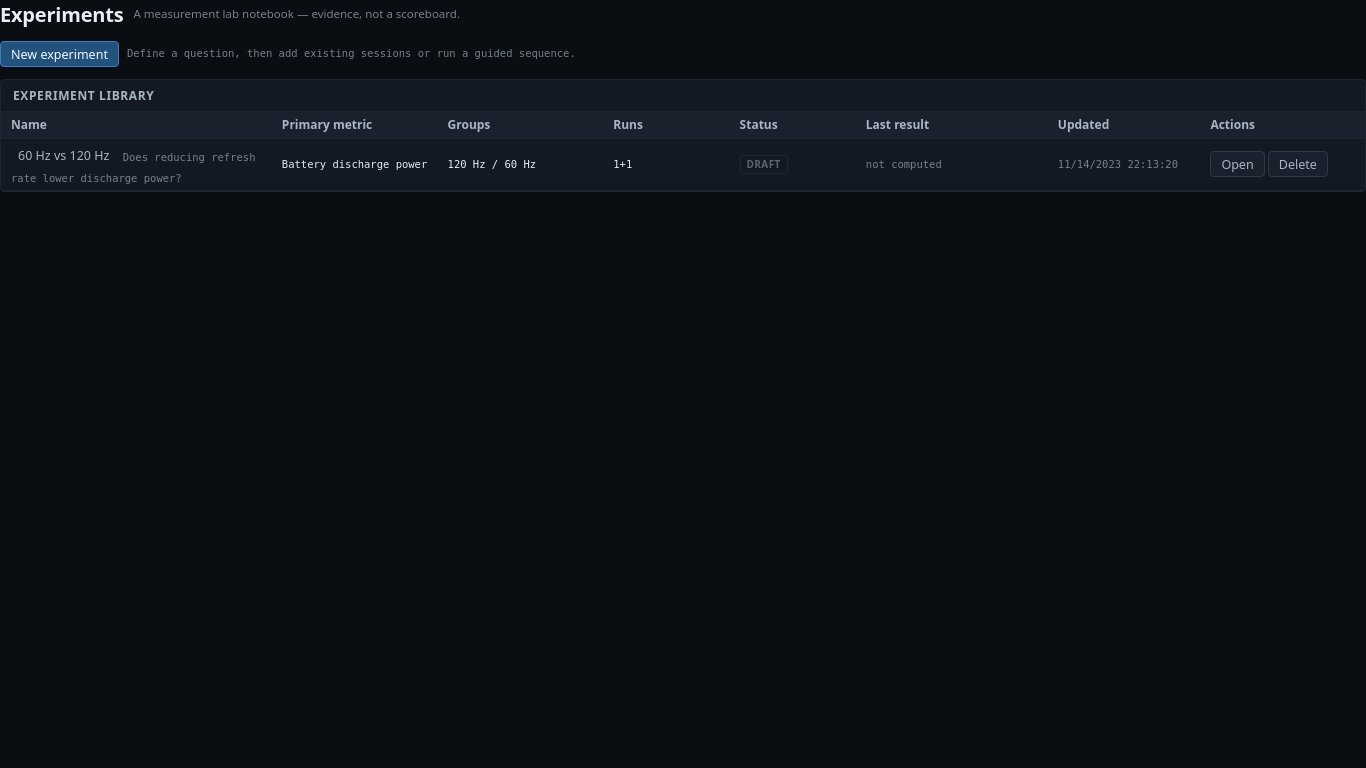
Test case: ExperimentsPage › surfaces an unavailable run rather than dropping it
This screenshot has width=1366, height=768.
Click the button "60 Hz vs 120 Hz" at {"x": 64, "y": 156}, box x1=11 y1=143 x2=116 y2=169
(page scrolled)
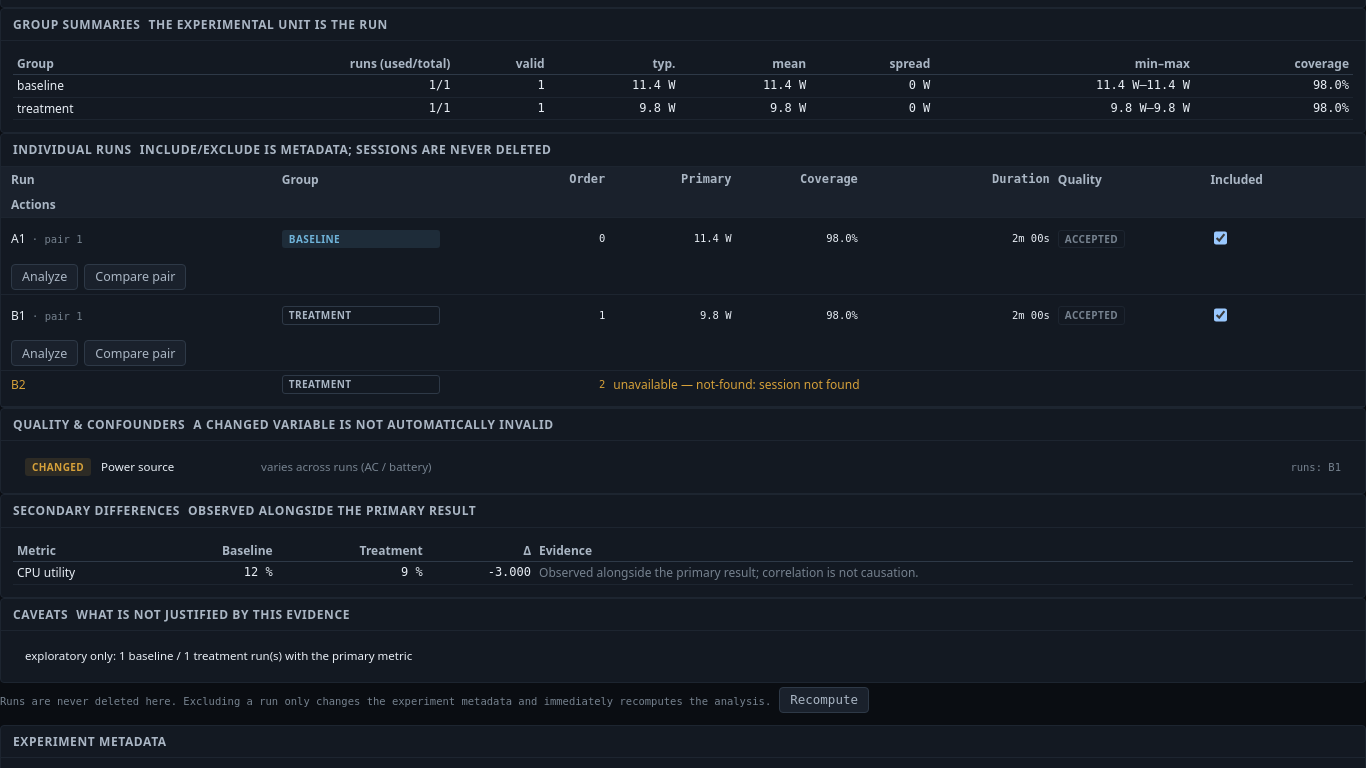
Now the text "unavailable — not-found: session not found" is shown, box x1=613 y1=376 x2=860 y2=393
